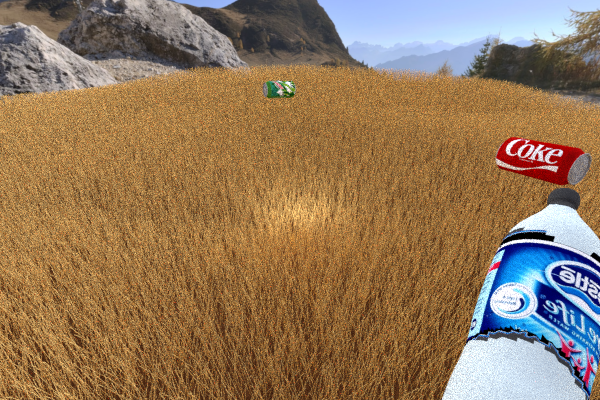bottle: (427, 187, 600, 400)
can: (495, 136, 591, 185), (262, 80, 295, 98)
